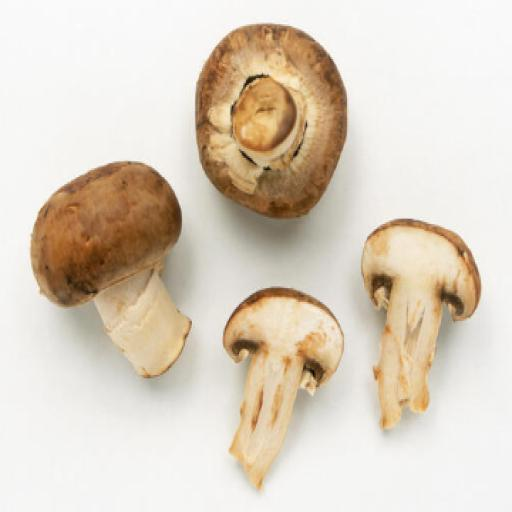mushroom: (28, 157, 196, 391), (195, 16, 351, 232), (355, 218, 490, 441), (218, 274, 347, 495)
